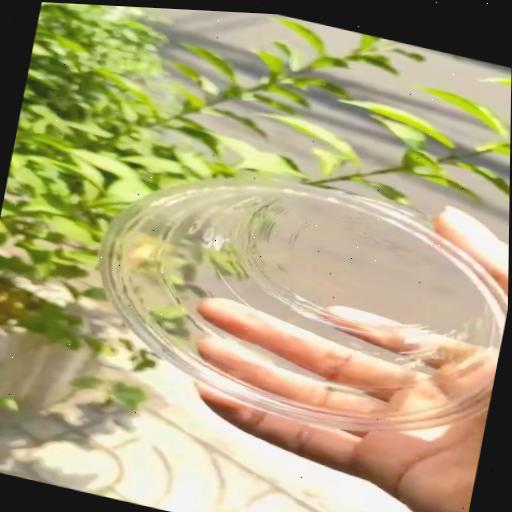ly_giay: (100, 170, 508, 430)
